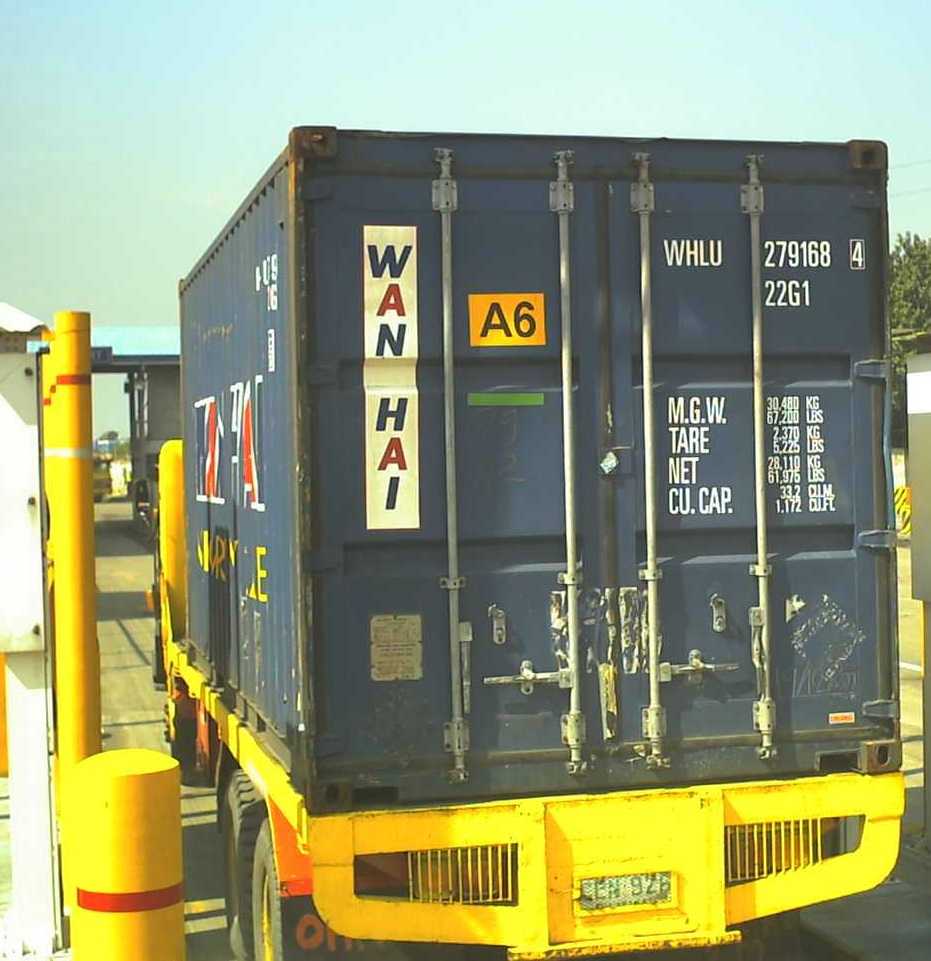container_door: (280, 122, 906, 814)
